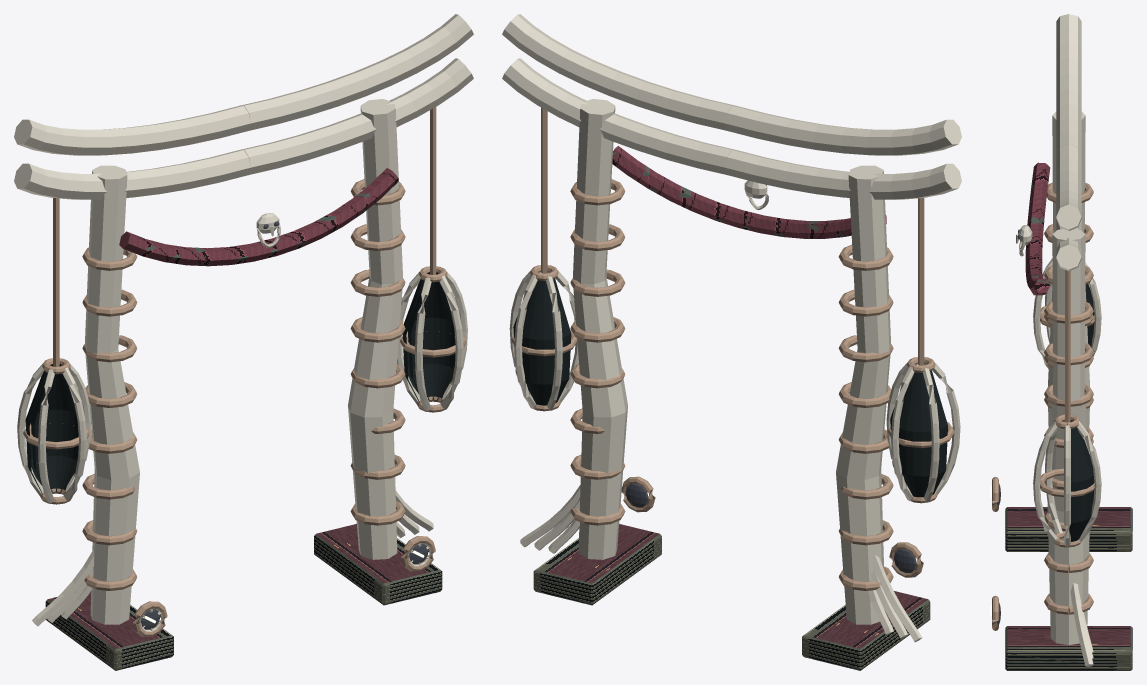
File: ossuary_bound_gate.glb
3 renders of one model, left to right at view 1: azimuth 30°, elevation 25°; view 2: azimuth 150°, elevation 25°; view 3: azimuth 270°, elevation 25°, orthographic. The views are drawn at different scales.
Visible parts, largest first — view 1: ossuary_bound_gate_warm, ossuary_bound_gate_petrol, ossuary_bound_gate_worn, ossuary_bound_gate_bruised; view 2: ossuary_bound_gate_warm, ossuary_bound_gate_petrol, ossuary_bound_gate_worn, ossuary_bound_gate_bruised, ossuary_bound_gate_deep; view 3: ossuary_bound_gate_warm, ossuary_bound_gate_petrol, ossuary_bound_gate_worn, ossuary_bound_gate_bruised.
Boxes of the visible parts, left/top/right/bottom form: ossuary_bound_gate_warm: left=14, top=14, right=473, bottom=631; ossuary_bound_gate_petrol: left=25, top=271, right=455, bottom=670; ossuary_bound_gate_worn: left=23, top=107, right=466, bottom=636; ossuary_bound_gate_bruised: left=119, top=168, right=398, bottom=266; ossuary_bound_gate_warm: left=502, top=14, right=961, bottom=642; ossuary_bound_gate_petrol: left=513, top=279, right=947, bottom=670; ossuary_bound_gate_worn: left=511, top=107, right=954, bottom=590; ossuary_bound_gate_bruised: left=612, top=146, right=886, bottom=238; ossuary_bound_gate_deep: left=625, top=184, right=916, bottom=572; ossuary_bound_gate_warm: left=992, top=14, right=1101, bottom=667; ossuary_bound_gate_petrol: left=1005, top=284, right=1132, bottom=670; ossuary_bound_gate_worn: left=992, top=182, right=1094, bottom=630; ossuary_bound_gate_bruised: left=1025, top=162, right=1050, bottom=295.
Bounding box in the file's own units: 6.02 × 6.84 × 1.8.
Materials: 6 (2 with a texture image).
